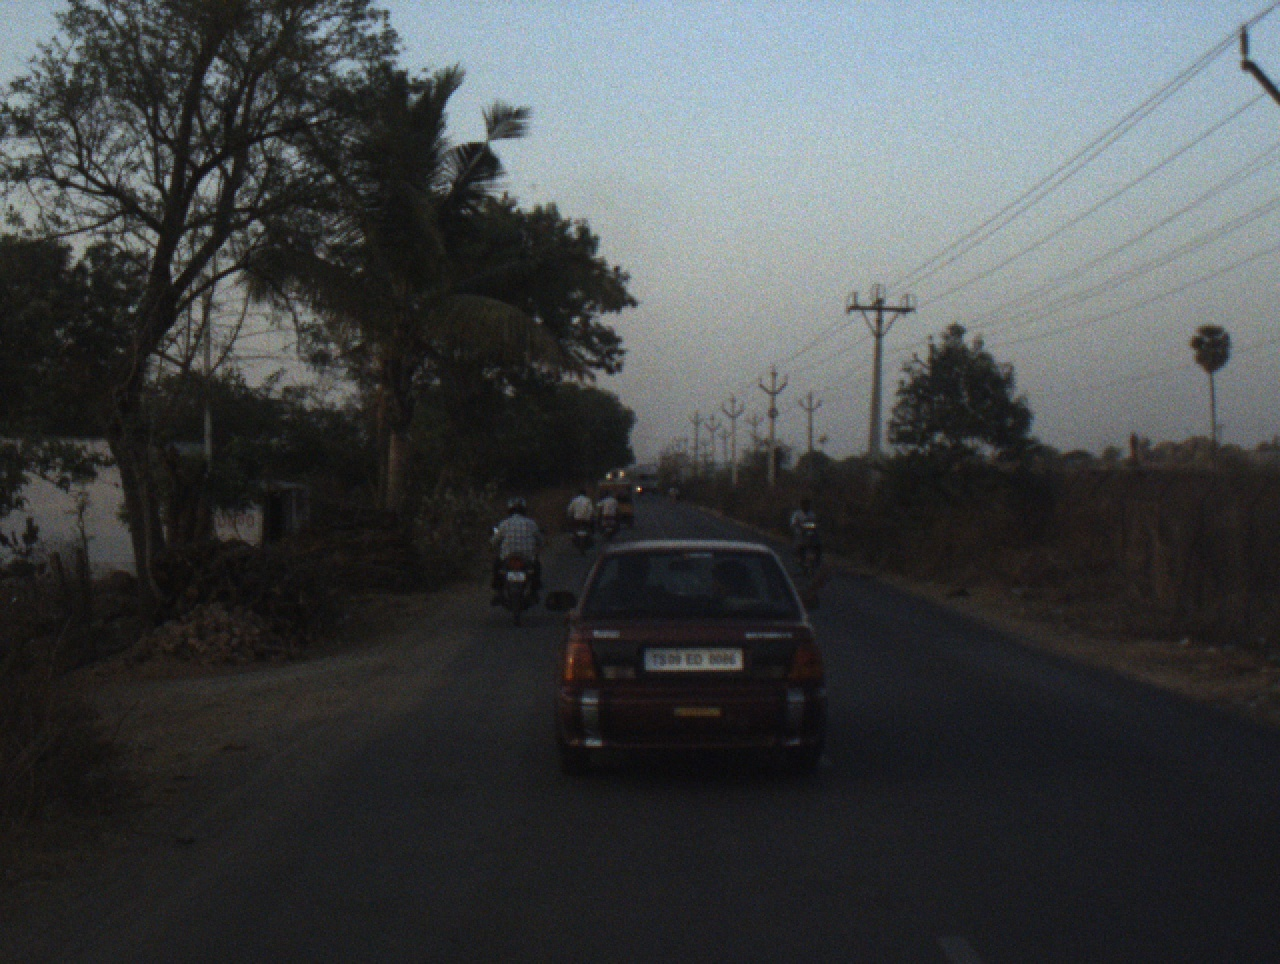car: (545, 539, 831, 780), (595, 471, 638, 528)
motorcycle: (487, 526, 552, 630), (791, 517, 826, 577), (565, 510, 600, 559), (596, 505, 621, 542)
rider: (487, 492, 547, 607), (565, 485, 598, 543), (791, 496, 819, 560), (595, 487, 620, 527)
truck: (634, 463, 662, 495)
